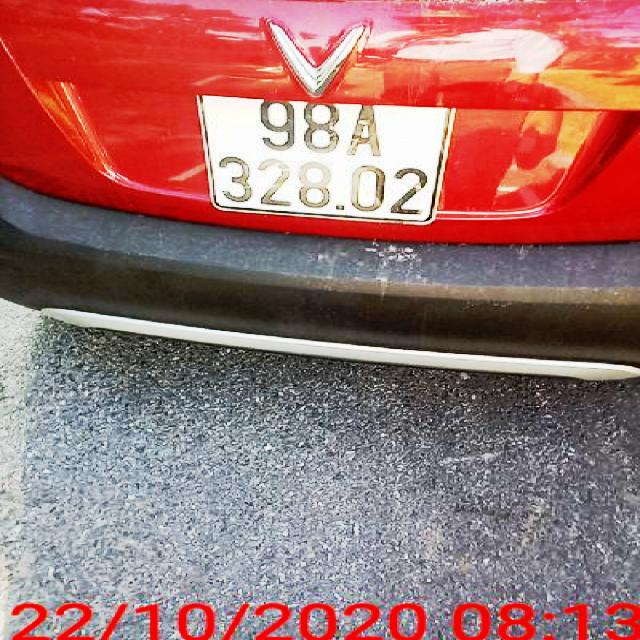license_plate: (202, 99, 454, 225)
